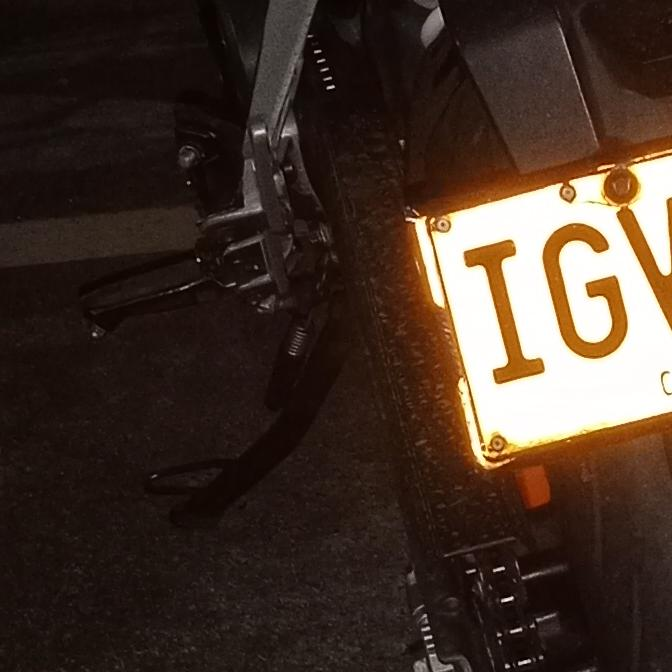plates: (416, 147, 672, 455)
